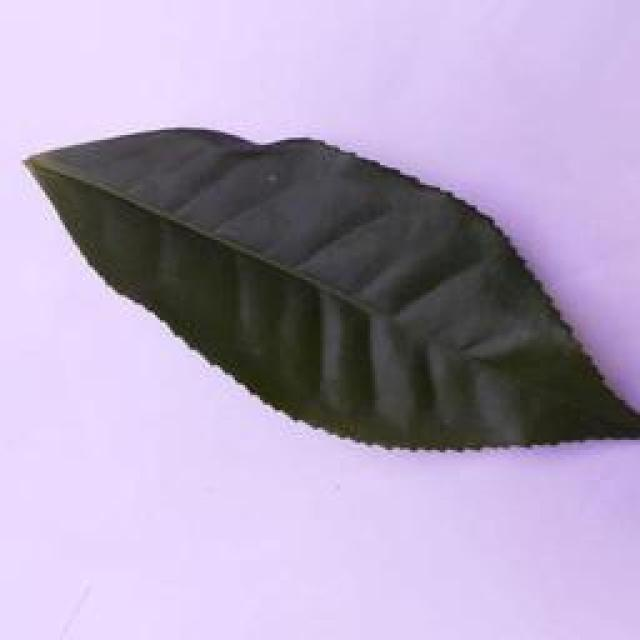Healthy: (21, 128, 640, 462)
